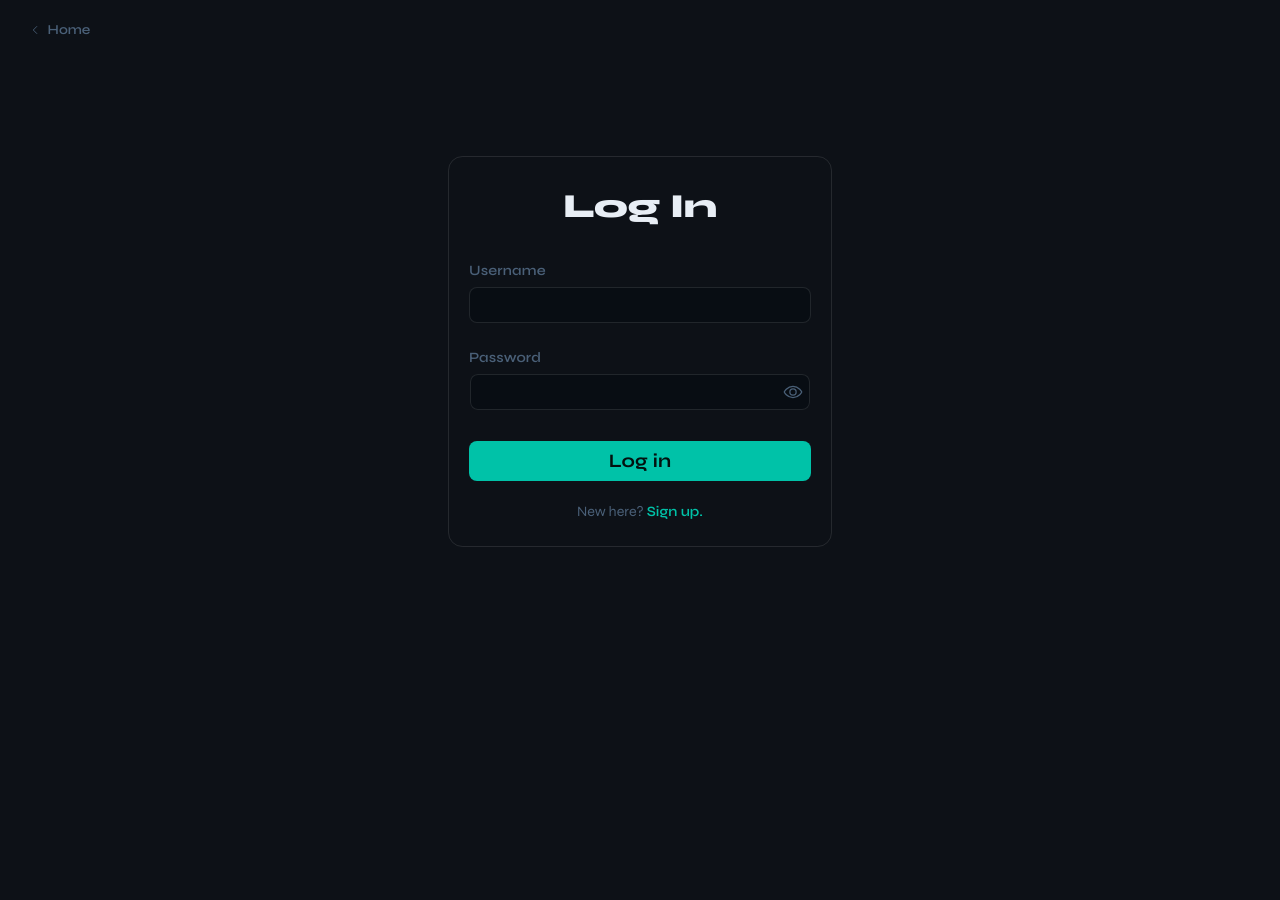
it: Test suite for the login form › Can properly login
The image size is (1280, 900).
Expected: the form is shown, [448,156,832,547]
Click the button "Log in".
click(640, 461)  # box [469,441,811,481]
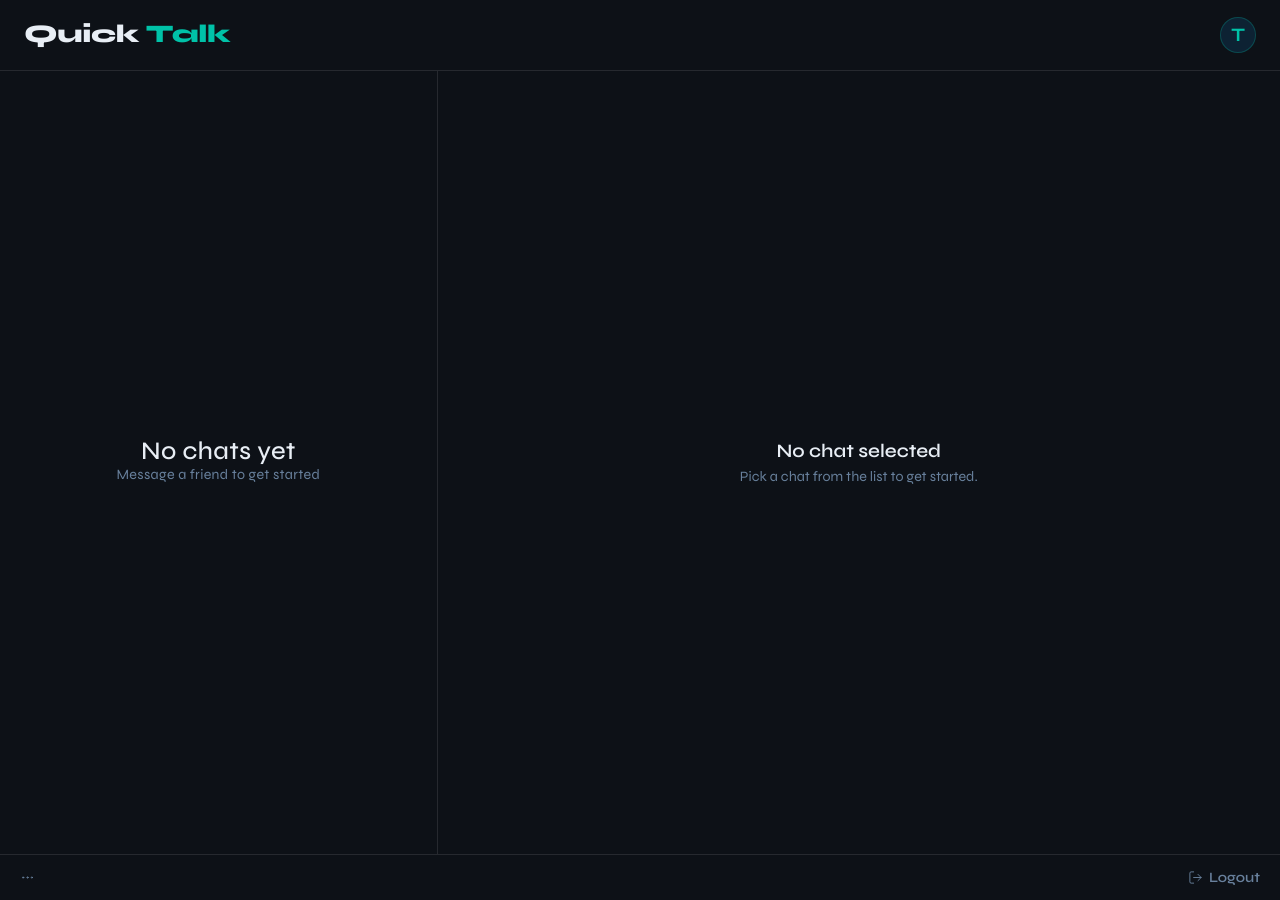
Result: the heading "No chats yet" is shown at [141,439,296,464]
Result: the text "No chat selected" is shown at [776,437,941,466]
